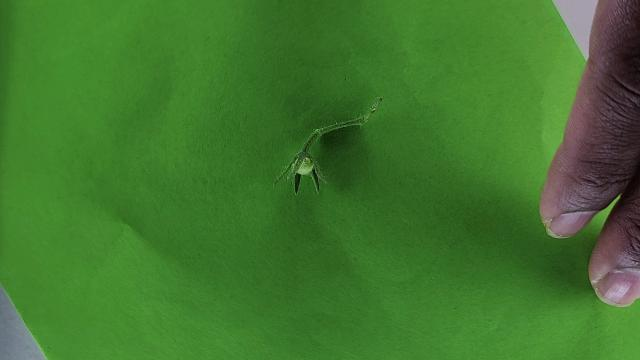Fruit Bud: (284, 151, 327, 196), (295, 153, 316, 181)
